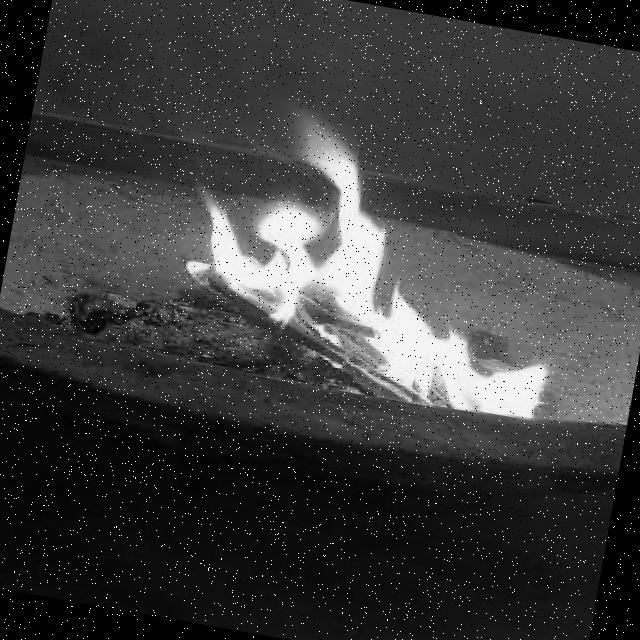Fire: (157, 128, 584, 428)
